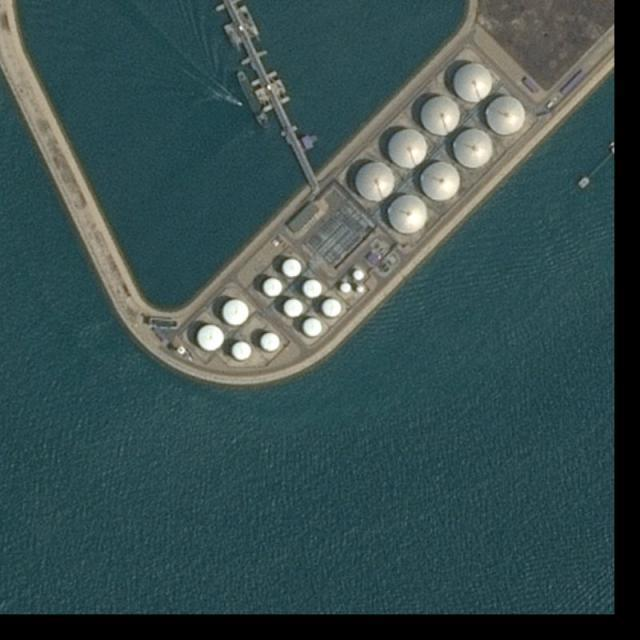ship: (238, 72, 269, 128), (237, 101, 244, 106)
